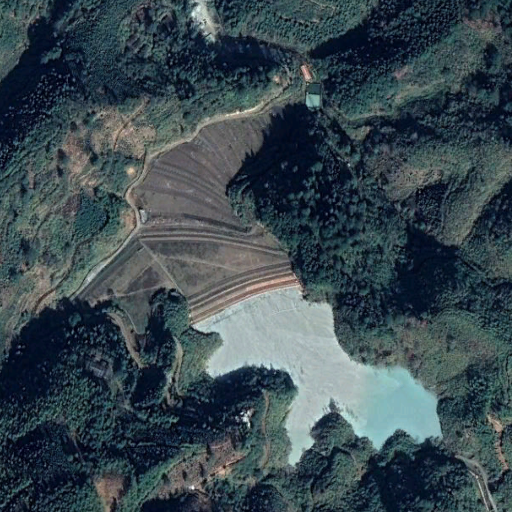tp: (66, 92, 446, 467)
